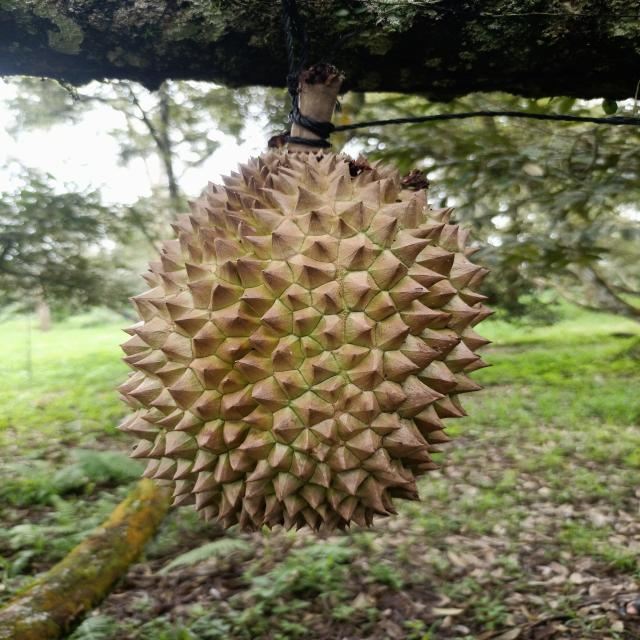mature: (111, 146, 498, 542)
